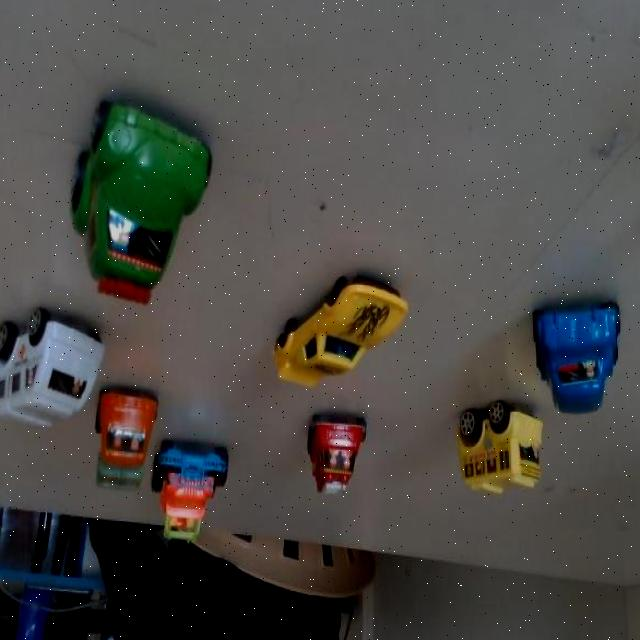car: (50, 97, 233, 285), (261, 262, 406, 407), (0, 304, 99, 429), (528, 301, 627, 417), (446, 401, 542, 502), (148, 429, 224, 540), (90, 382, 160, 491), (303, 402, 368, 506)
